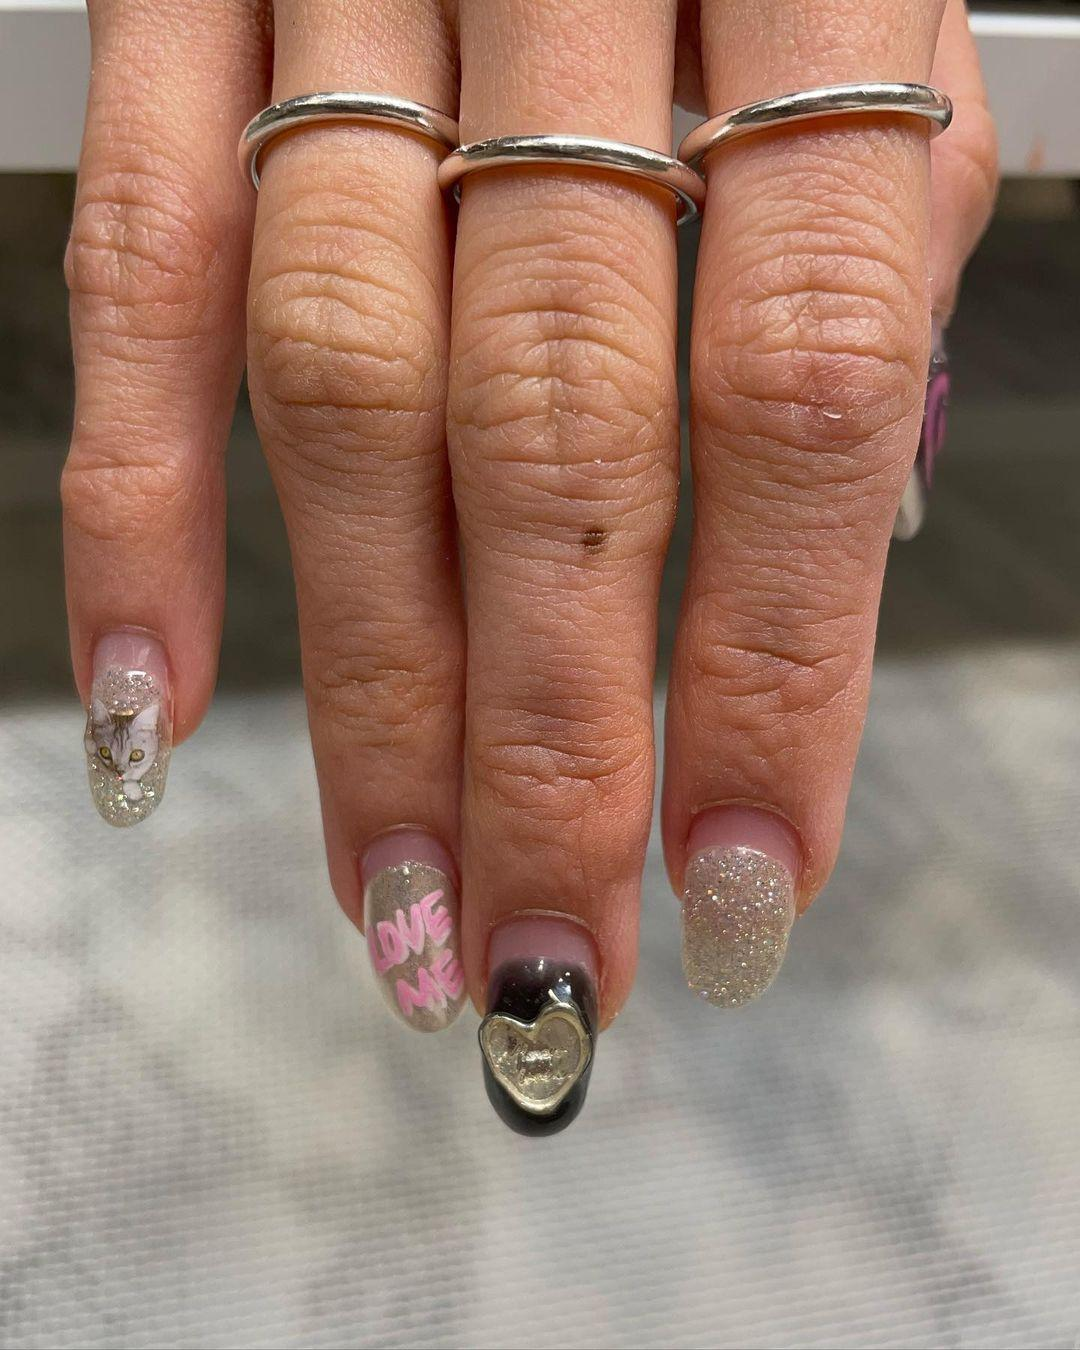nail: (475, 912, 602, 1127), (677, 801, 804, 1009), (356, 822, 467, 1033), (82, 625, 174, 827)
